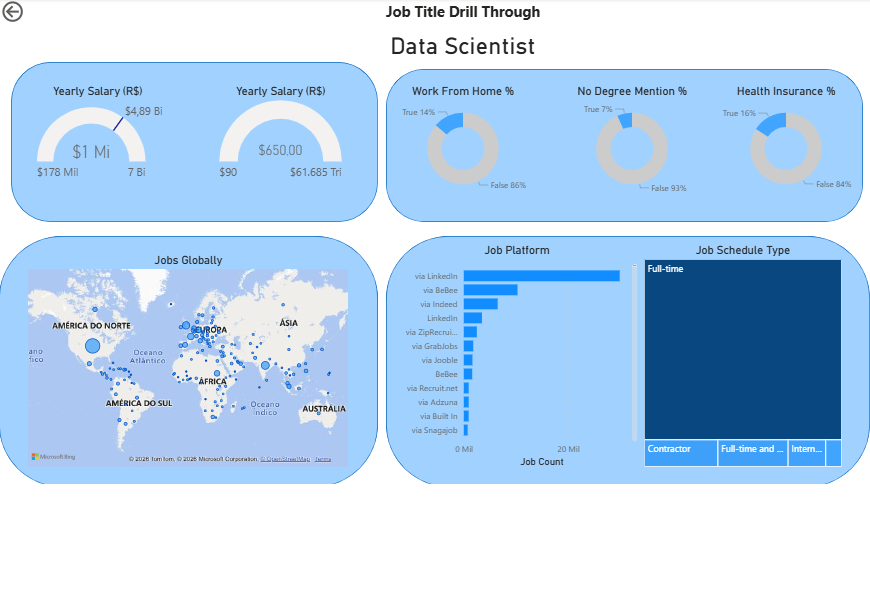

The dashboard page shown, as its layout file describes it:
{"tool":"powerbi","page":{"name":"Job Title Drill Through","canvas":[1280,720],"ordinal":1},"visuals":[{"type":"group","id":"g1","title":"Grupo 1","box":[0,94,1279.8,624.5],"z":0},{"type":"shape","box":[17.6,94,539.3,235.1],"z":0,"group":"g1"},{"type":"textbox","box":[230.7,0,902.2,44.1],"z":1000},{"type":"shape","box":[568.7,349.7,711.2,368.8],"z":1000,"group":"g1"},{"type":"gauge","title":"Yearly Salary (R$)","fields":{"MinValue":["Min(job_postings_flat.salary_year_avg)"],"Y":["Median(job_postings_flat.salary_year_avg)1"],"TargetValue":["Avg(job_postings_flat.salary_year_avg)"],"MaxValue":["job_postings_flat.Medida_Max"]},"box":[17.6,126.4,254.2,149.9],"z":2000},{"type":"shape","box":[0,349.7,556.9,368.8],"z":2000,"group":"g1"},{"type":"shape","box":[568.7,104.3,700.9,224.8],"z":3000,"group":"g1"},{"type":"gauge","title":"Yearly Salary (R$)","fields":{"Y":["Median(job_postings_flat.salary_hour_avg)"],"MinValue":["Min(job_postings_flat.salary_hour_avg)1"],"MaxValue":["Max(job_postings_flat.salary_hour_avg)2"],"TargetValue":["Avg(job_postings_flat.salary_hour_avg)3"]},"box":[292.4,126.4,242.4,149.9],"z":3000},{"type":"donutChart","title":"Work From Home %","fields":{"Category":["job_postings_flat.job_work_from_home"],"Y":["CountNonNull(job_postings_flat.job_work_from_home)"]},"box":[568.7,126.4,226.3,170.4],"z":4000},{"type":"donutChart","title":"No Degree Mention %","fields":{"Category":["job_postings_flat.job_no_degree_mention"],"Y":["CountNonNull(job_postings_flat.job_no_degree_mention)"]},"box":[817,126.4,226.3,170.4],"z":5000},{"type":"donutChart","title":"Health Insurance %","fields":{"Category":["job_postings_flat.job_health_insurance"],"Y":["CountNonNull(job_postings_flat.job_health_insurance)"]},"box":[1043.3,126.4,226.3,170.4],"z":6000},{"type":"map","title":"Jobs Globally","fields":{"Category":["job_postings_flat.job_country"],"Size":["CountNonNull(job_postings_flat.job_title_short)"]},"box":[38.2,374.7,480.5,318.9],"z":7000},{"type":"barChart","title":"Job Platform","fields":{"Category":["job_postings_flat.job_via"],"Y":["CountNonNull(job_postings_flat.job_title_short)"]},"box":[578.9,360,364.4,333.6],"z":8000},{"type":"treemap","title":"Job Schedule Type","fields":{"Group":["job_postings_flat.job_schedule_type"],"Values":["CountNonNull(job_postings_flat.job_schedule_type)"]},"box":[943.3,360,299.8,333.6],"z":9000},{"type":"card","fields":{"Values":["Min(job_postings_flat.job_title_short)"]},"box":[504,29.4,355.6,74.9],"z":10000},{"type":"actionButton","box":[0,0,100,40],"z":11000}]}

Visuals, with their boxes on the page's 1280x720 design canvas (x1, y1, x2, y2). These are canvas units, not pixel positions in the 870x600 screenshot, which may show the page scaled, cropped or inside an application window:
"Grupo 1" group: <box>0,94,1280,718</box>
shape: <box>18,94,557,329</box>
textbox: <box>231,0,1133,44</box>
shape: <box>569,350,1280,718</box>
"Yearly Salary (R$)" gauge: <box>18,126,272,276</box>
shape: <box>0,350,557,718</box>
shape: <box>569,104,1270,329</box>
"Yearly Salary (R$)" gauge: <box>292,126,535,276</box>
"Work From Home %" donutChart: <box>569,126,795,297</box>
"No Degree Mention %" donutChart: <box>817,126,1043,297</box>
"Health Insurance %" donutChart: <box>1043,126,1270,297</box>
"Jobs Globally" map: <box>38,375,519,694</box>
"Job Platform" barChart: <box>579,360,943,694</box>
"Job Schedule Type" treemap: <box>943,360,1243,694</box>
card - Min(job_postings_flat.job_title_short): <box>504,29,860,104</box>
actionButton: <box>0,0,100,40</box>
